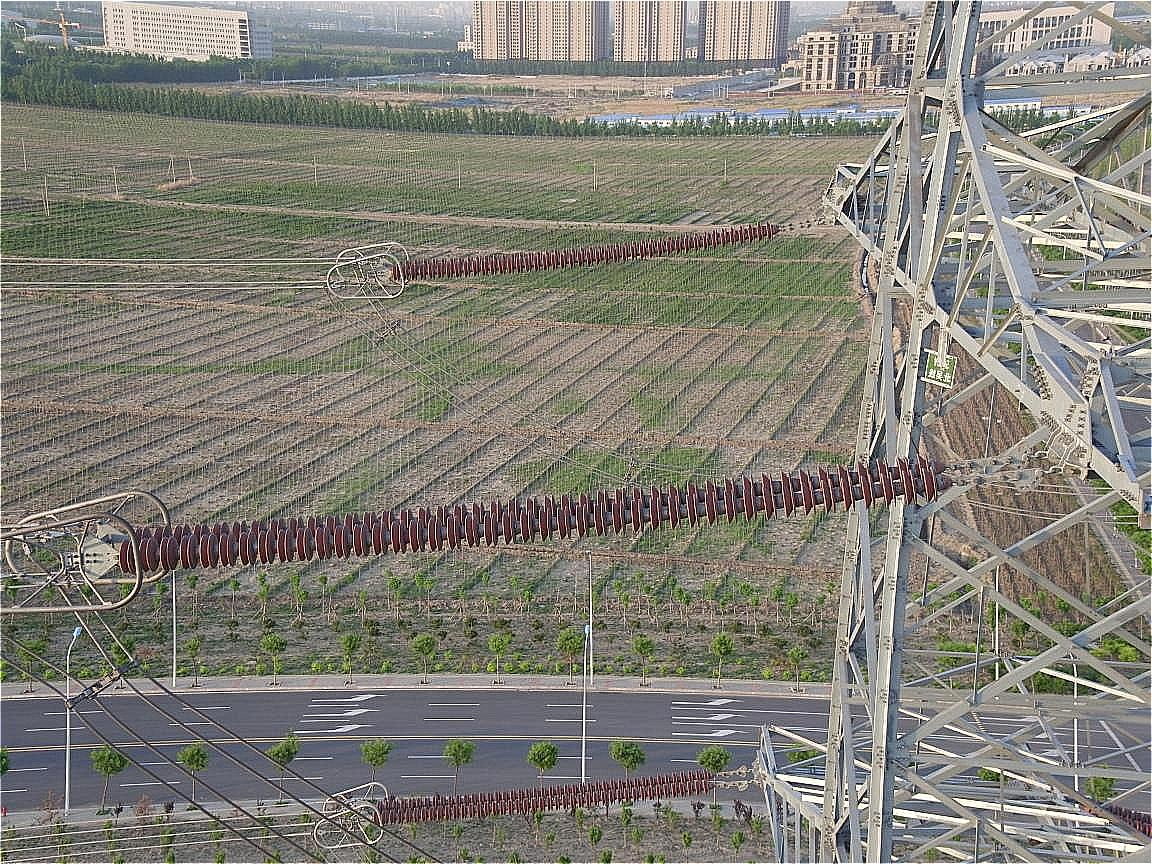insultor2: (116, 437, 963, 598), (373, 209, 792, 283)
